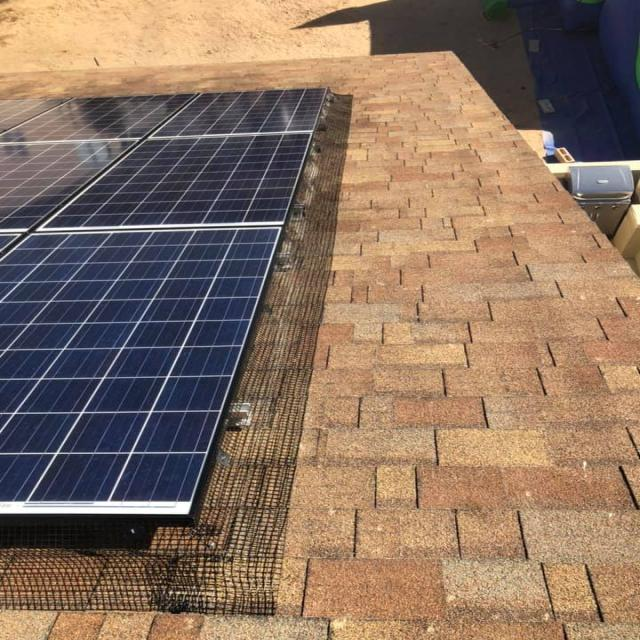clean-solar-panel: (0, 89, 328, 519)
